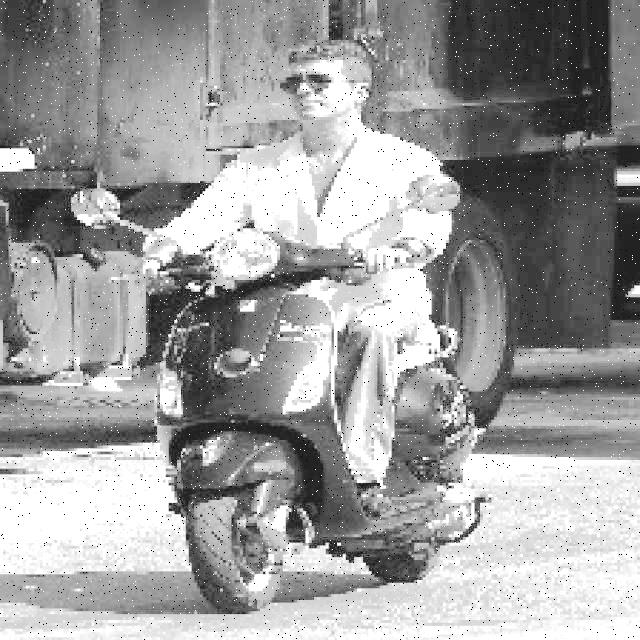Bike: (134, 225, 468, 628)
